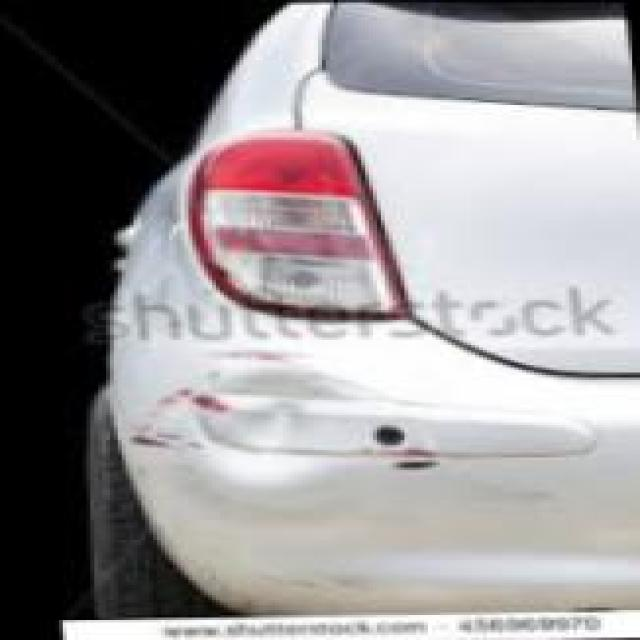Fender: (122, 338, 431, 531)
